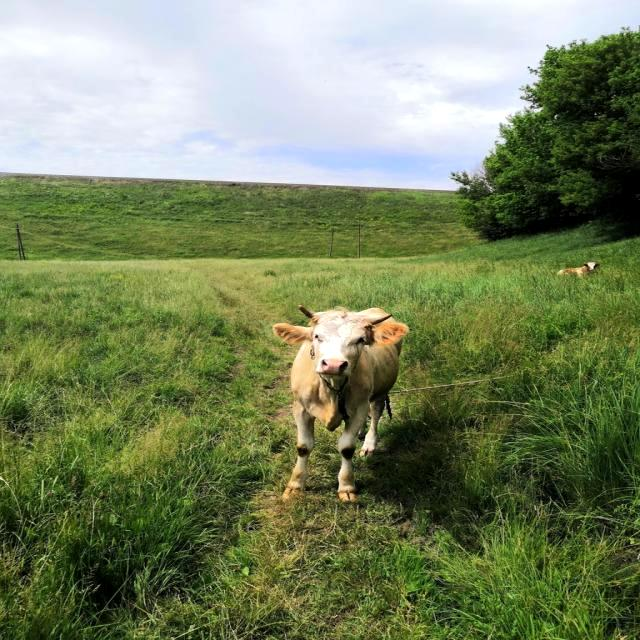COW: (272, 306, 409, 501)
